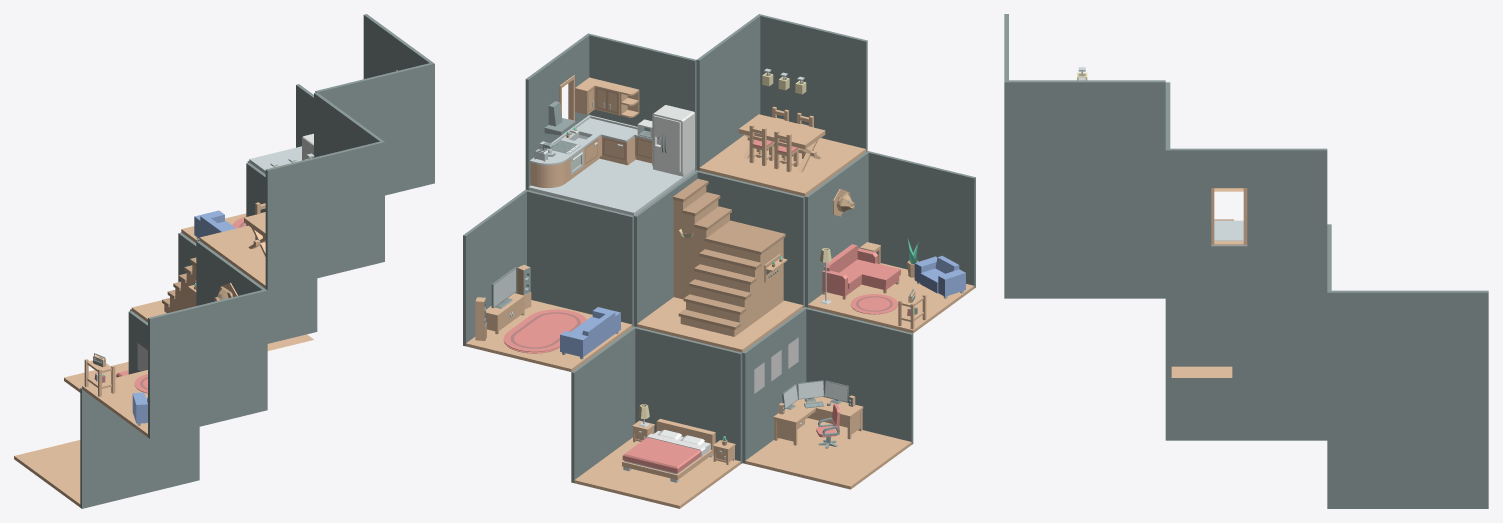
The model's file is main-scene.fbx.
3 views of the same model, side by side, from view 1: azimuth 30°, elevation 25°; view 2: azimuth 150°, elevation 25°; view 3: azimuth 270°, elevation 25° (orthographic). The views are drawn at different scales.
Parts seen in each view (by area): view 1: wall1 (×4), wall3, wall (×6), floor (×4), wall2, floor1, furniture:stairsCorner, furniture:loungeDesignSofa, stairsCorner, bookcaseOpenLow, tableCross; view 2: wall1 (×6), wall (×6), floor (×6), wall3, furniture:stairsCorner, wall2, floor1, stairsCorner, loungeSofaLong, furniture:rugRounded, deskCorner:deskCorner, furniture:cover (+15 smaller); view 3: wall (×6), wall2, furniture:stairsCorner, wallWindow.
Part boxes in pixels (left/top/right/bottom): wall1 (×4): left=80, top=63, right=431, bottom=508; wall3: left=265, top=141, right=381, bottom=290; wall (×6): left=128, top=14, right=434, bottom=480; floor (×4): left=14, top=146, right=301, bottom=507; wall2: left=314, top=92, right=384, bottom=262; floor1: left=199, top=225, right=265, bottom=288; furniture:stairsCorner: left=162, top=257, right=196, bottom=311; furniture:loungeDesignSofa: left=194, top=210, right=235, bottom=239; stairsCorner: left=162, top=259, right=313, bottom=350; bookcaseOpenLow: left=84, top=359, right=115, bottom=396; tableCross: left=244, top=212, right=265, bottom=256; wall1 (×6): left=527, top=34, right=975, bottom=463; wall (×6): left=463, top=33, right=869, bottom=482; floor (×6): left=466, top=158, right=974, bottom=508; wall3: left=760, top=14, right=867, bottom=151; furniture:stairsCorner: left=673, top=178, right=785, bottom=336; wall2: left=696, top=14, right=761, bottom=170; floor1: left=699, top=135, right=865, bottom=196; stairsCorner: left=678, top=179, right=783, bottom=336; loungeSofaLong: left=822, top=244, right=900, bottom=299; furniture:rugRounded: left=503, top=309, right=586, bottom=352; deskCorner:deskCorner: left=773, top=397, right=863, bottom=445; furniture:cover: left=622, top=433, right=705, bottom=473; wall (×6): left=1004, top=148, right=1488, bottom=508; wall2: left=1004, top=80, right=1165, bottom=224; furniture:stairsCorner: left=1171, top=219, right=1233, bottom=377; wallWindow: left=1211, top=188, right=1247, bottom=244.
Bounding box in the file's own units: 55.9 × 54 × 55.5.
